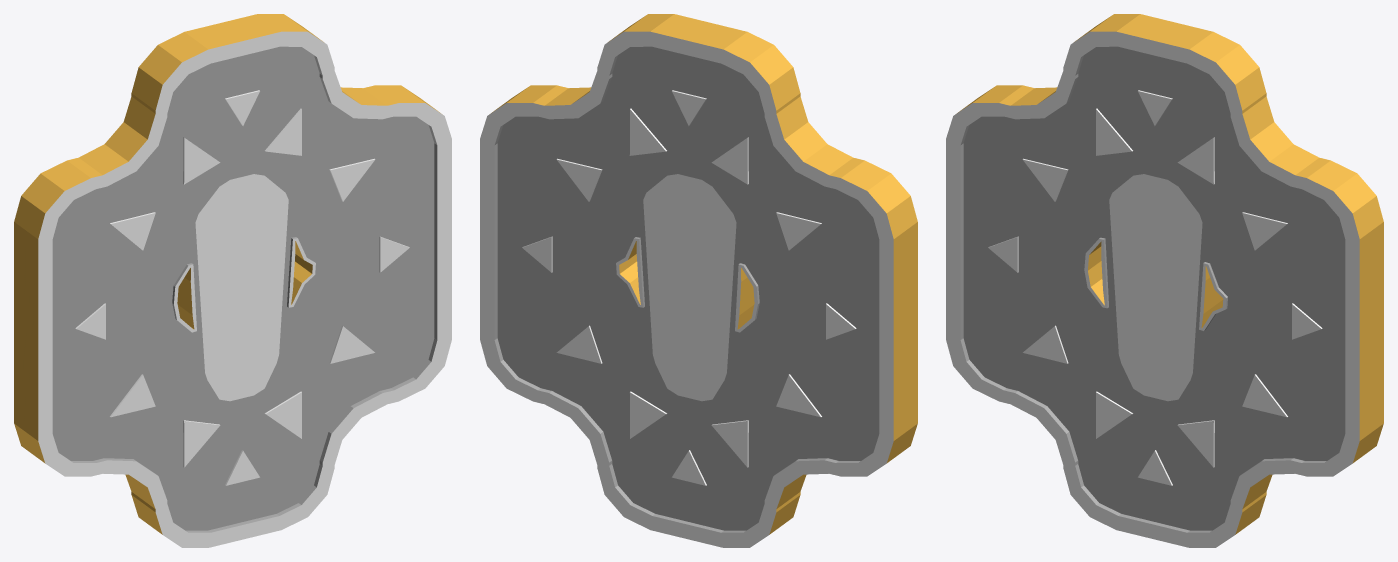
Rendered from guard_thunder.glb.
3 views of the same model, side by side, from view 1: azimuth 30°, elevation 25°; view 2: azimuth 150°, elevation 25°; view 3: azimuth 330°, elevation 25° (orthographic).
Visible parts, largest first — view 1: Guard; view 2: Guard; view 3: Guard.
Part boxes in pixels (x1,y1,x2,y2): Guard: [14, 14, 451, 547]; Guard: [480, 14, 917, 547]; Guard: [946, 14, 1383, 547].
Bounding box in the file's own units: 0.1252 × 0.1442 × 0.0126.
